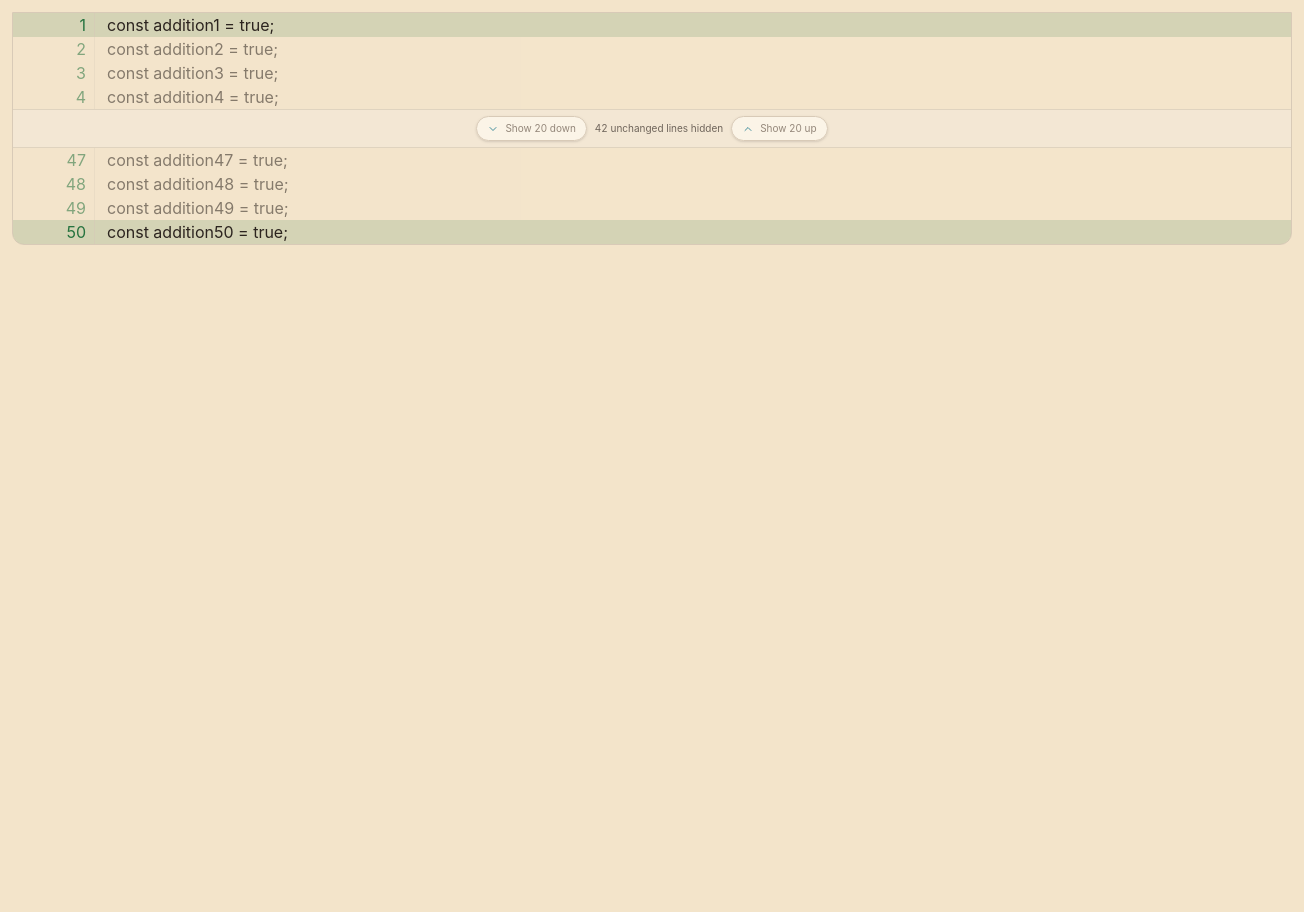
Scenario: SideBySideUnitDiff › reveals collapsed context from the code below when paging upward
This screenshot has width=1304, height=912.
Click the button with aria-label "Show 20 unchanged lines upward". click: coordinates (779, 128)
box: [731, 116, 828, 141]
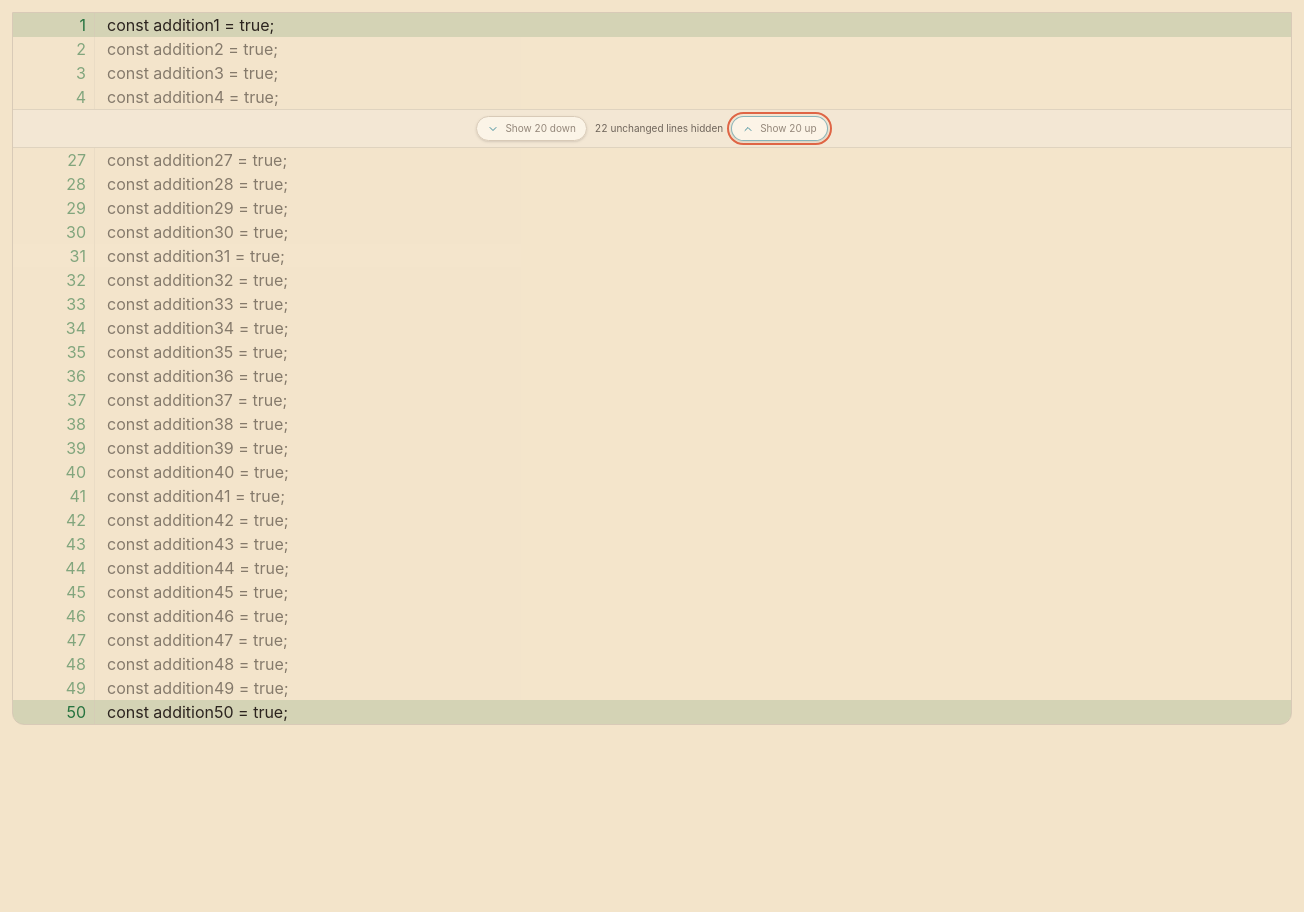
Expected: the element named "Added code diff" shows "const addition30 = true;", [107, 222, 288, 242]
Expected: the element "22 unchanged lines hidden" is shown, [13, 109, 1291, 148]
